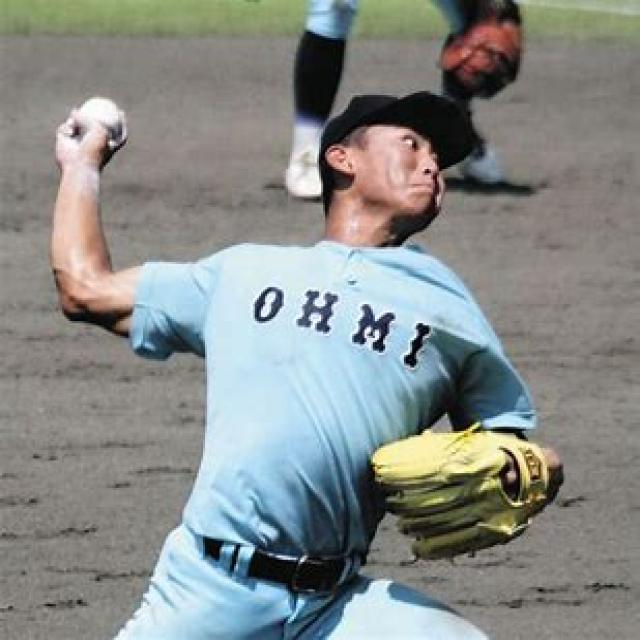glove: (365, 417, 556, 571)
